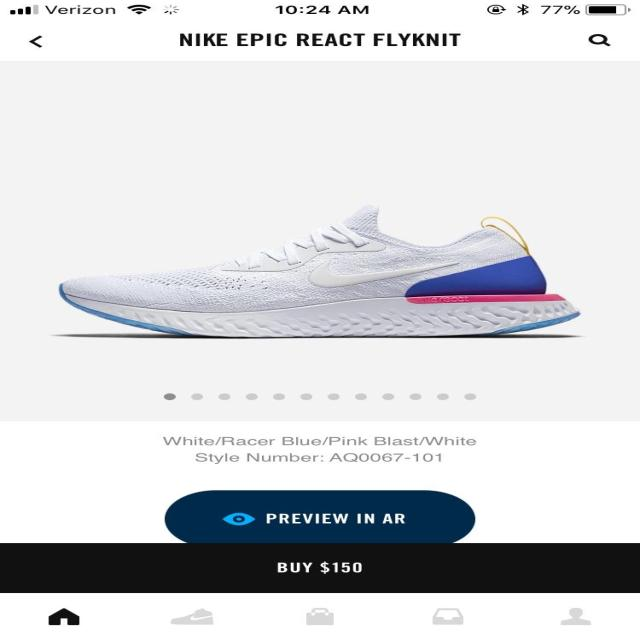shoe: (21, 198, 640, 346)
